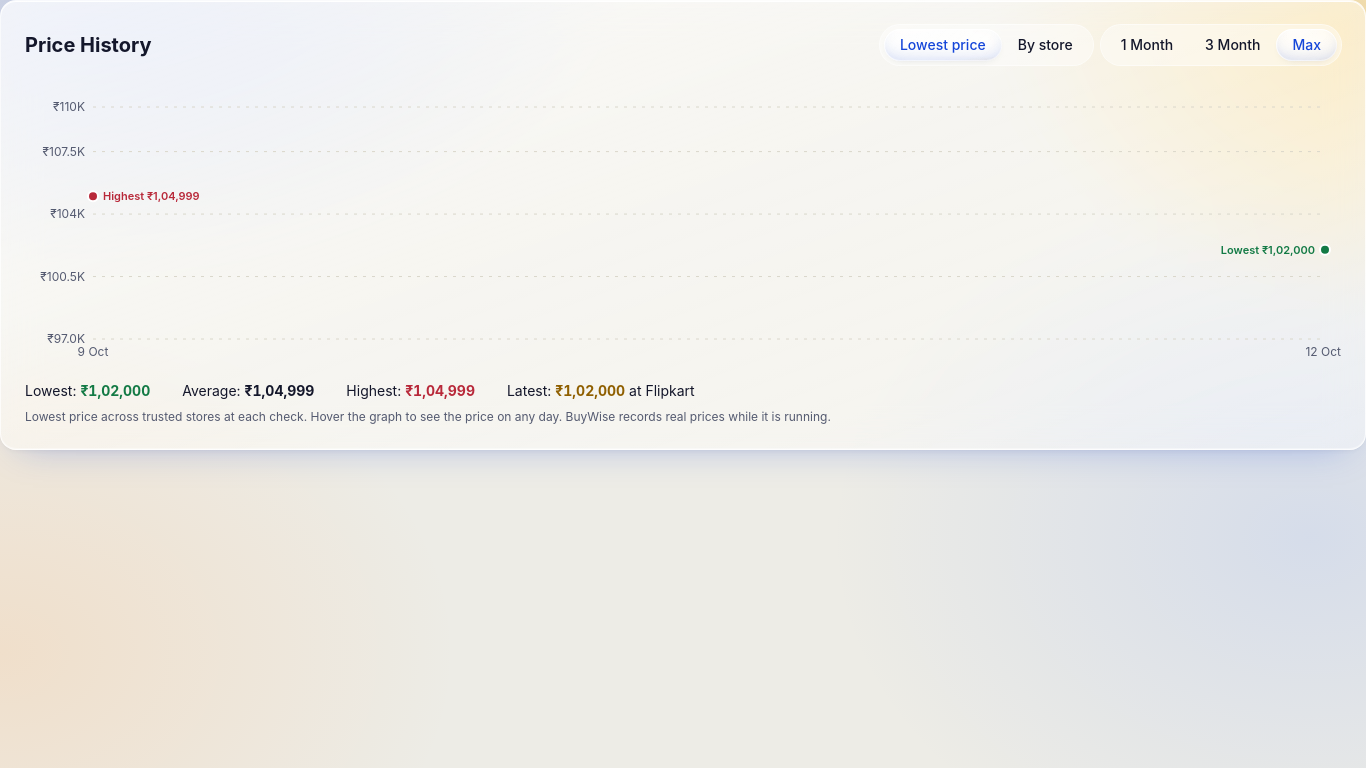
Test: PriceHistoryChart › switches to per-store view
The image size is (1366, 768).
Check: the element with test id "history-chart" is shown, box [25,81,1341,369]
Check: the text "Hover the graph" is shown, box [25,409,562,424]
Click the tab "By store" at {"x": 1045, "y": 45}, box [1002,29,1089,61]
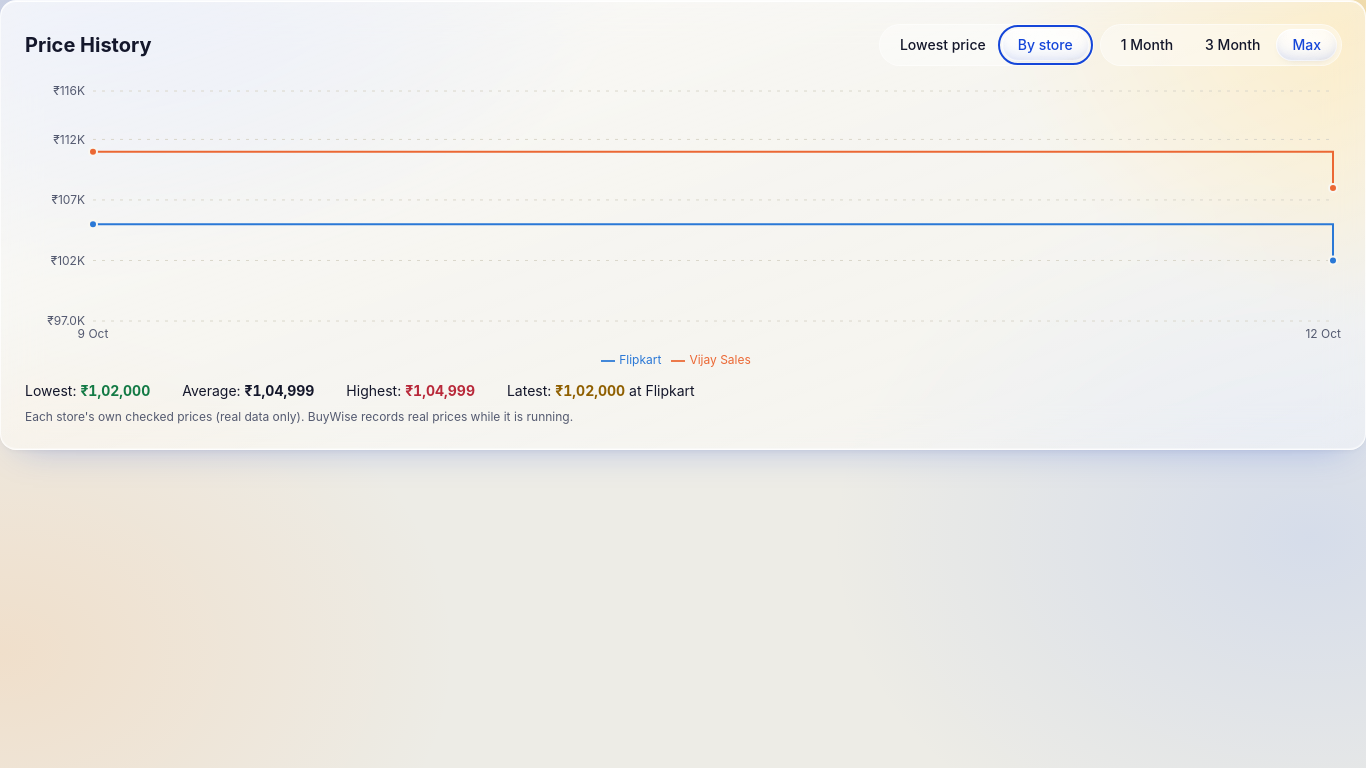
Check: the text "Each store's own checked prices" is shown, box [25,409,304,424]
